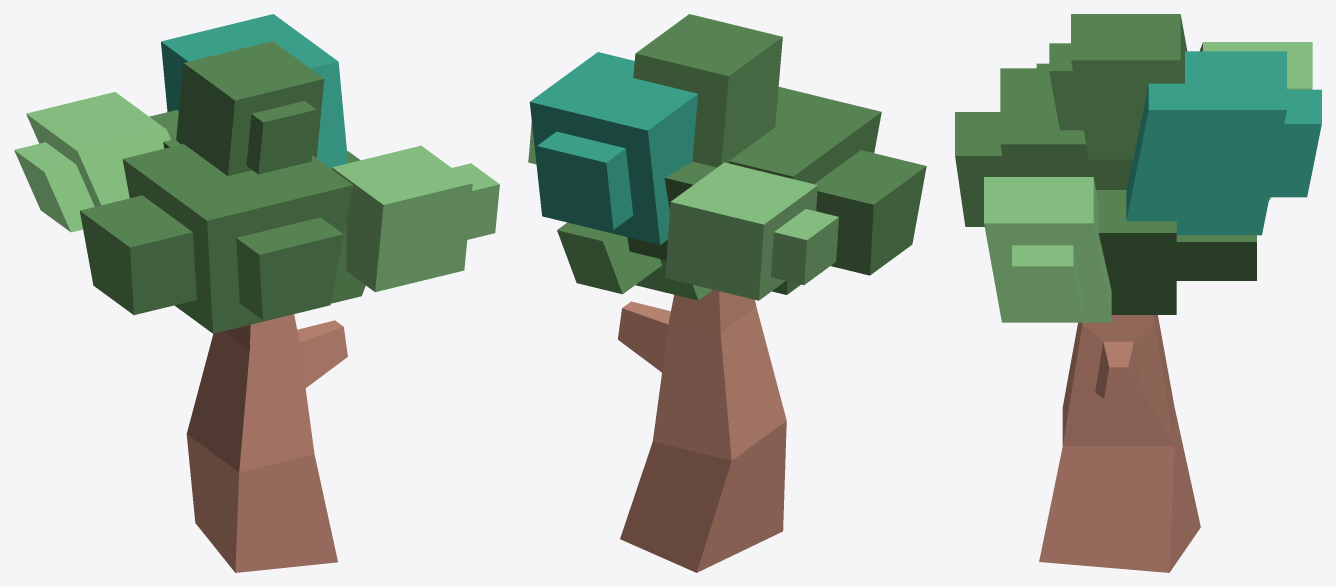
Rendered from tree1.fbx.
3 views of the same model, side by side, from view 1: azimuth 30°, elevation 25°; view 2: azimuth 150°, elevation 25°; view 3: azimuth 270°, elevation 25° (orthographic). The views are drawn at different scales.
Parts seen in each view (by area): view 1: tree1; view 2: tree1; view 3: tree1.
Part boxes in pixels (<box>): tree1: <box>14,14,499,572</box>; tree1: <box>528,14,926,572</box>; tree1: <box>955,14,1321,572</box>.
Size of the model in its own units: 294 by 370 by 245.
